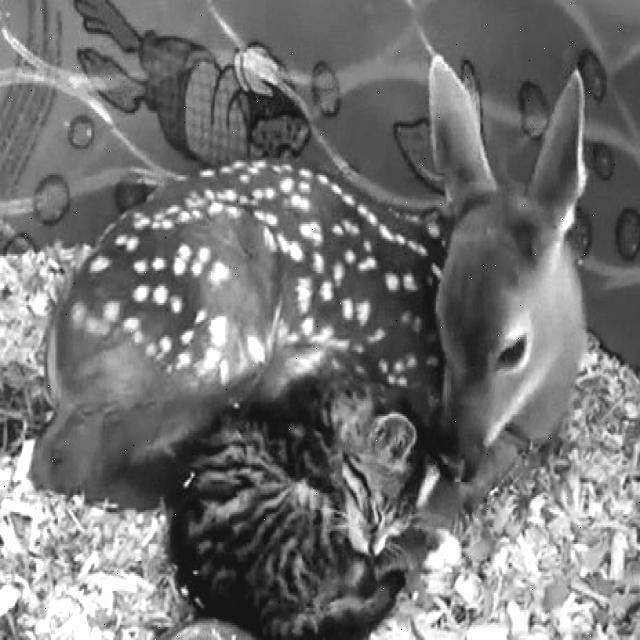deer: (401, 47, 608, 501)
